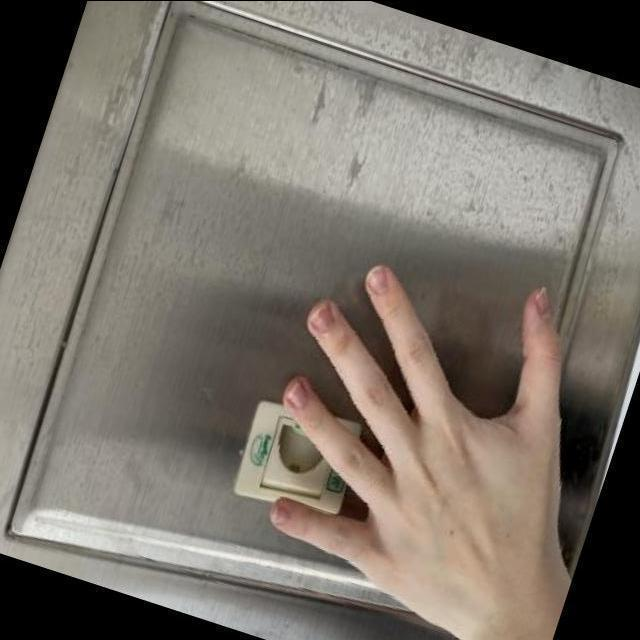hand: (210, 210, 640, 640)
